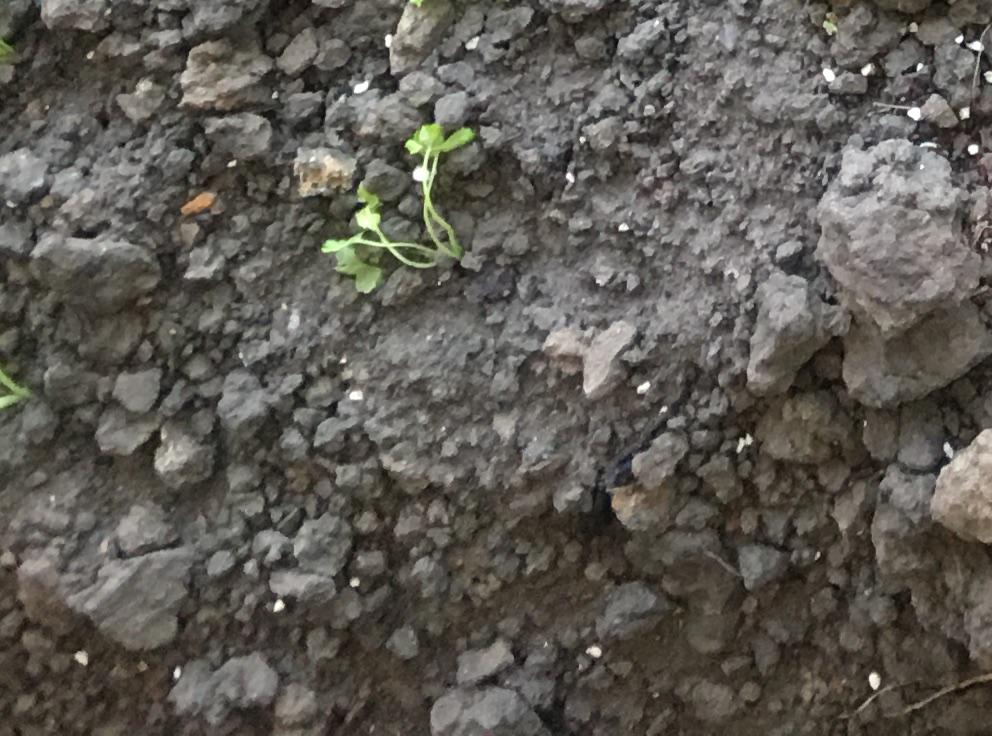block: (818, 150, 978, 344), (31, 234, 162, 315), (748, 270, 817, 400), (930, 430, 992, 553)
